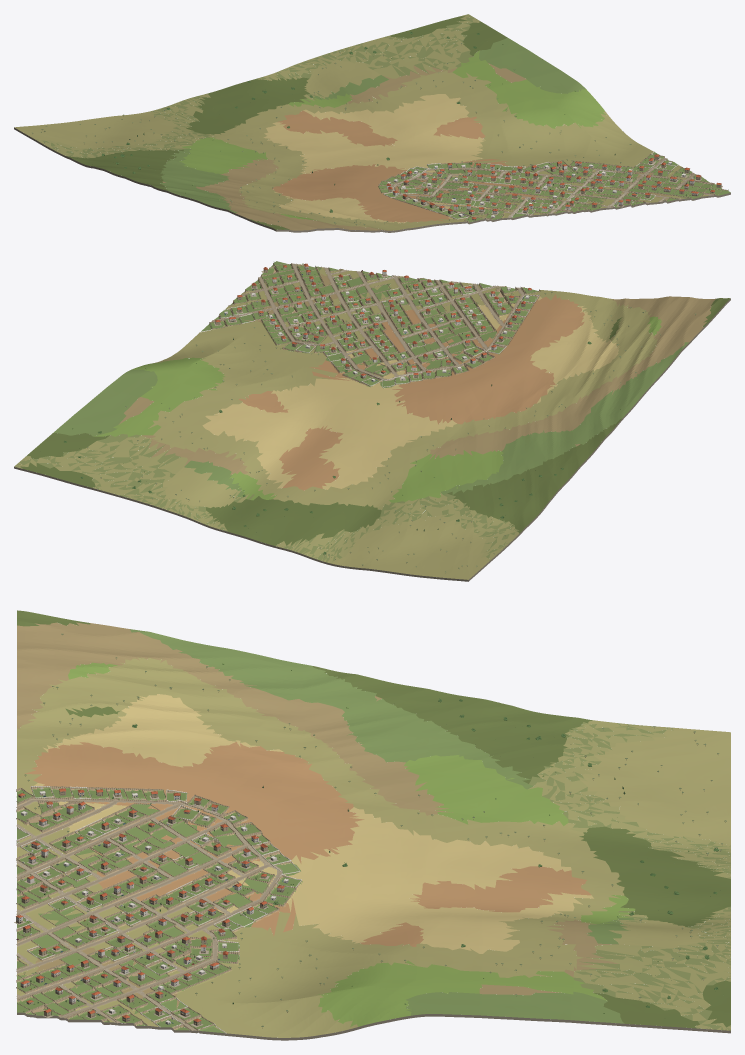
The model's file is parca_+9_+0-yakin.glb.
3 renders of one model, top to bottom at view 1: azimuth 30°, elevation 25°; view 2: azimuth 150°, elevation 25°; view 3: azimuth 270°, elevation 25°, orthographic. The views are drawn at different scales.
Visible parts, largest first — view 1: parca_+9_+0_arazi, parca_+9_+0_duvarlar, parca_+9_+0_yapilar, parca_+9_+0_yollar, parca_+9_+0_bitkiler; view 2: parca_+9_+0_arazi, parca_+9_+0_duvarlar, parca_+9_+0_yapilar, parca_+9_+0_yollar, parca_+9_+0_bitkiler; view 3: parca_+9_+0_arazi, parca_+9_+0_duvarlar, parca_+9_+0_yapilar, parca_+9_+0_yollar, parca_+9_+0_bitkiler.
Part boxes in pixels (x1,y1,x2,y2): parca_+9_+0_arazi: (14, 14, 730, 232); parca_+9_+0_duvarlar: (378, 151, 727, 222); parca_+9_+0_yapilar: (386, 154, 722, 220); parca_+9_+0_yollar: (392, 158, 714, 219); parca_+9_+0_bitkiler: (32, 27, 728, 226); parca_+9_+0_arazi: (14, 261, 730, 581); parca_+9_+0_duvarlar: (199, 263, 539, 387); parca_+9_+0_yapilar: (214, 263, 531, 381); parca_+9_+0_yollar: (211, 263, 524, 380); parca_+9_+0_bitkiler: (64, 262, 695, 572); parca_+9_+0_arazi: (17, 610, 730, 1040); parca_+9_+0_duvarlar: (16, 786, 301, 1033); parca_+9_+0_yapilar: (14, 788, 288, 1027); parca_+9_+0_yollar: (16, 800, 281, 1030); parca_+9_+0_bitkiler: (18, 617, 727, 1028).
Size of the model in its own units: 1008 by 228 by 1004.
